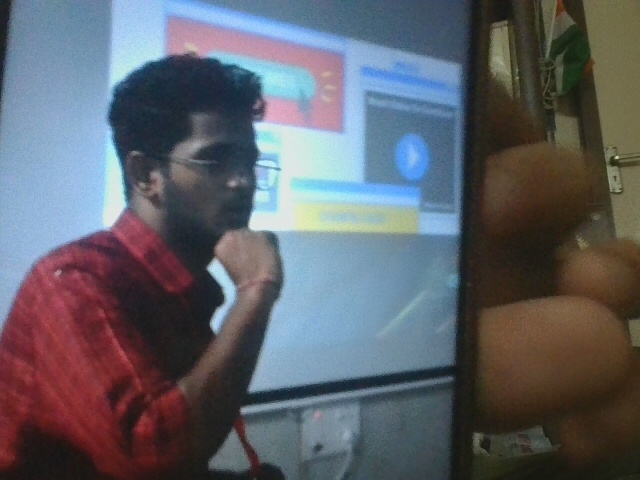fake: (96, 90, 277, 271)
